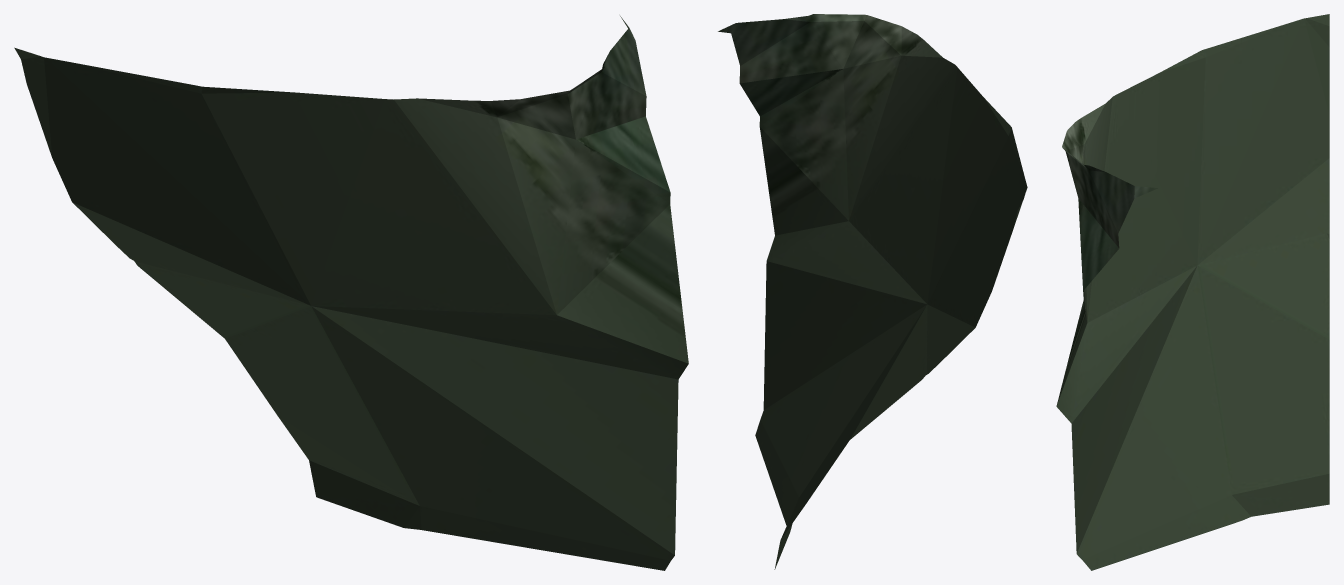
The picture shows the model from 3 angles, left to right: view 1: azimuth 30°, elevation 25°; view 2: azimuth 150°, elevation 25°; view 3: azimuth 270°, elevation 25°; orthographic projection. The views are drawn at different scales.
Bounding box in the file's own units: 2.88 × 2.95 × 1.91.
3 materials, 3 textured.
